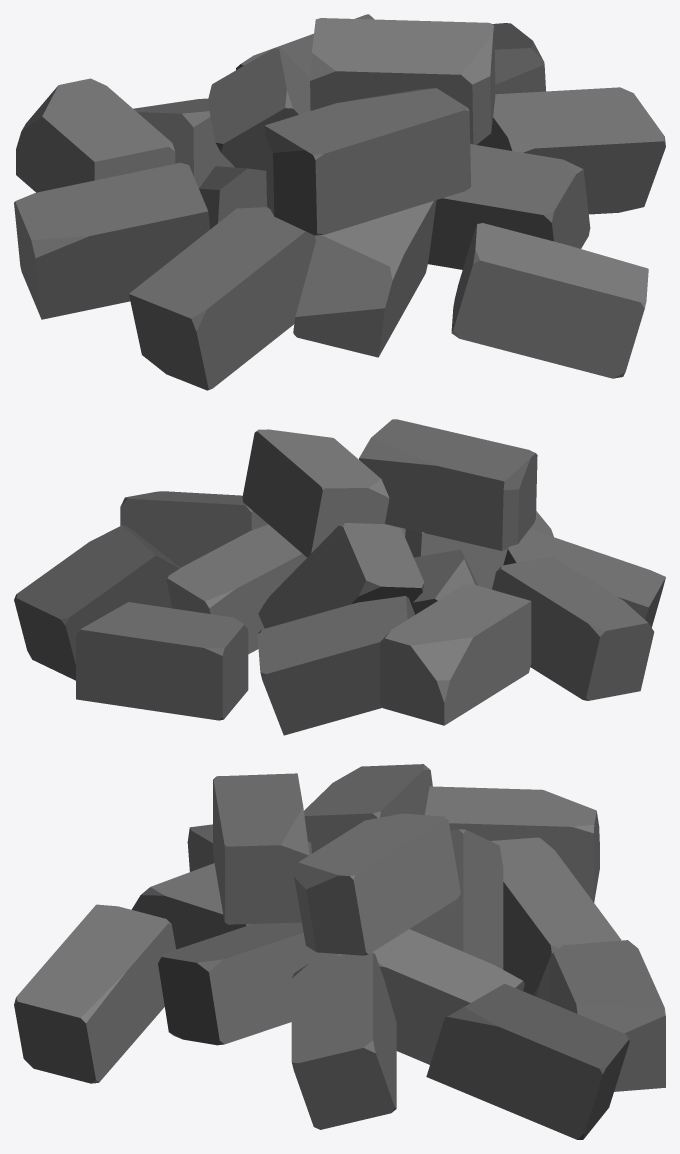
File: Ruins_10.fbx
3 views of the same model, one above another, from view 1: azimuth 30°, elevation 25°; view 2: azimuth 150°, elevation 25°; view 3: azimuth 270°, elevation 25° (orthographic). The views are drawn at different scales.
Visible parts, largest first — view 1: Ruins_10_LOD0; view 2: Ruins_10_LOD0; view 3: Ruins_10_LOD0.
Boxes of the visible parts, bbox=[...] form: Ruins_10_LOD0: bbox=[14, 14, 665, 390]; Ruins_10_LOD0: bbox=[14, 419, 665, 735]; Ruins_10_LOD0: bbox=[14, 764, 665, 1139].
Size of what is drawn, in the model's own units: 289 by 107 by 282.
